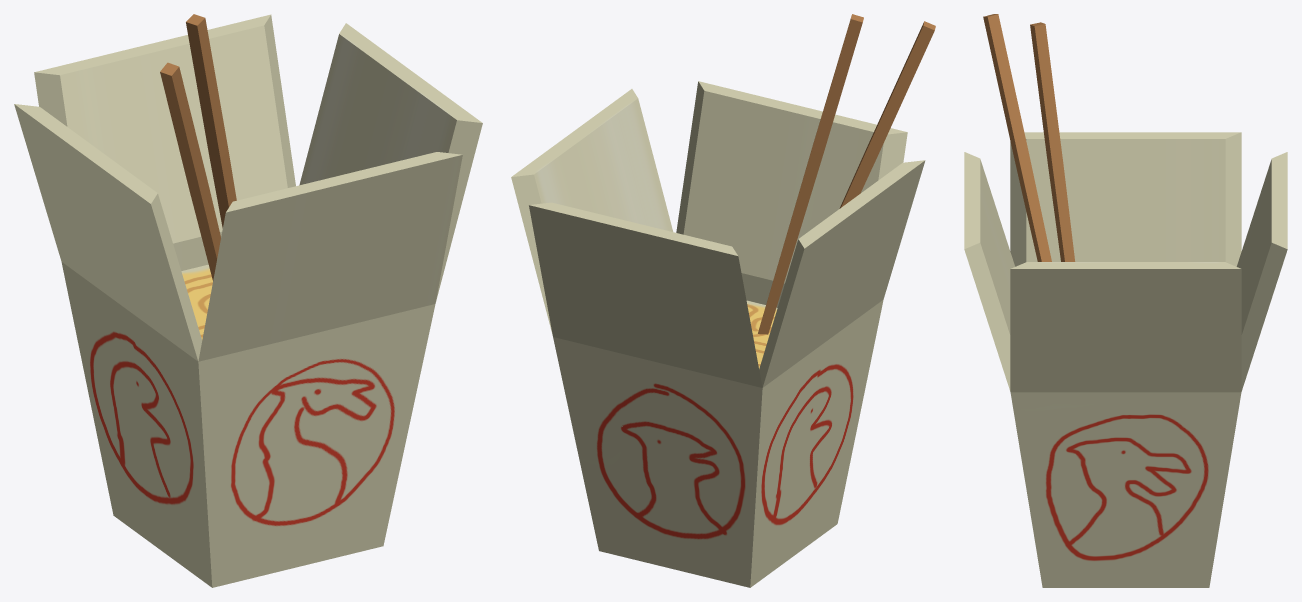
File: chinese_take_out.fbx
3 views of the same model, side by side, from view 1: azimuth 30°, elevation 25°; view 2: azimuth 150°, elevation 25°; view 3: azimuth 270°, elevation 25° (orthographic). The views are drawn at different scales.
Visible parts, largest first — view 1: Cube.001, Cube.003, Cube.002; view 2: Cube.001, Cube.002, Cube.003; view 3: Cube.001, Cube.003, Cube.002.
Boxes of the visible parts, left/top/right/bottom form: Cube.001: left=14, top=14, right=482, bottom=587; Cube.003: left=160, top=62, right=220, bottom=280; Cube.002: left=186, top=14, right=236, bottom=228; Cube.001: left=511, top=81, right=925, bottom=587; Cube.002: left=758, top=14, right=863, bottom=334; Cube.003: left=839, top=21, right=935, bottom=208; Cube.001: left=964, top=132, right=1287, bottom=587; Cube.003: left=983, top=14, right=1051, bottom=261; Cube.002: left=1030, top=22, right=1075, bottom=261.
Bounding box in the file's own units: 14.03 × 23.24 × 14.
2 materials, 1 textured.
